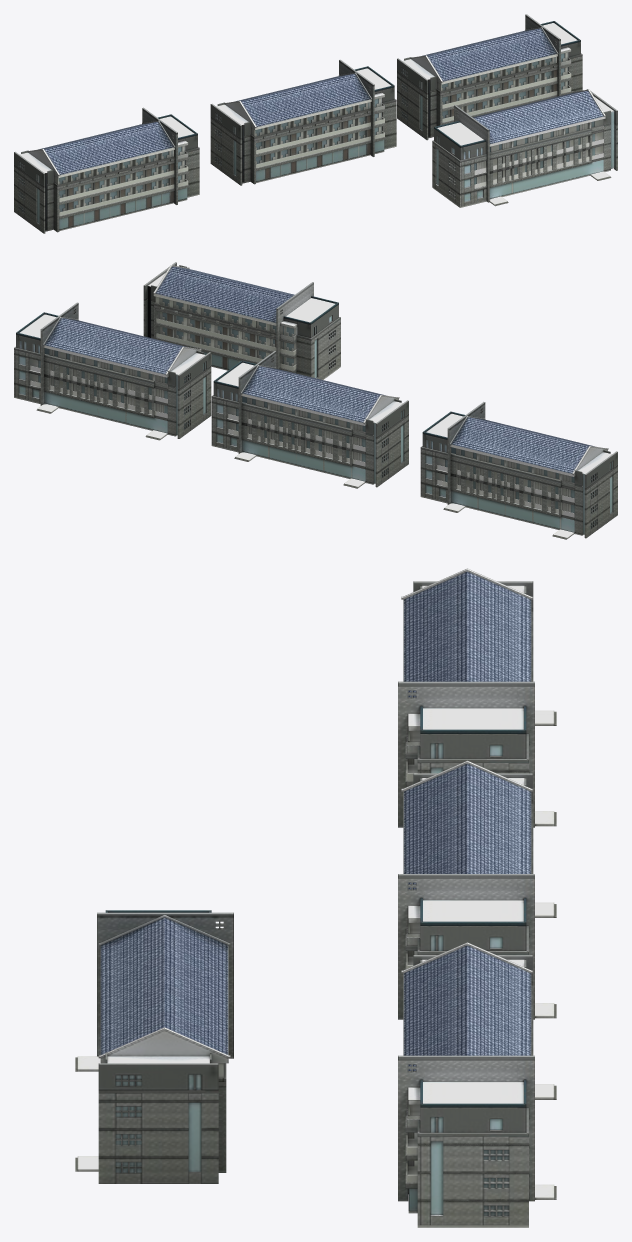
Rendered from dormTexture.glb.
3 renders of one model, top to bottom at view 1: azimuth 30°, elevation 25°; view 2: azimuth 150°, elevation 25°; view 3: azimuth 270°, elevation 25°, orthographic. The views are drawn at different scales.
Parts seen in each view (by area): view 1: 宿舍; view 2: 宿舍; view 3: 宿舍.
Part boxes in pixels (x1=…): 宿舍: x1=14, y1=14, x2=617, y2=233; 宿舍: x1=14, y1=262, x2=617, y2=539; 宿舍: x1=75, y1=568, x2=556, y2=1227.
Size of the model in its own units: 146 by 18.61 by 56.26.
1 material, 1 textured.
